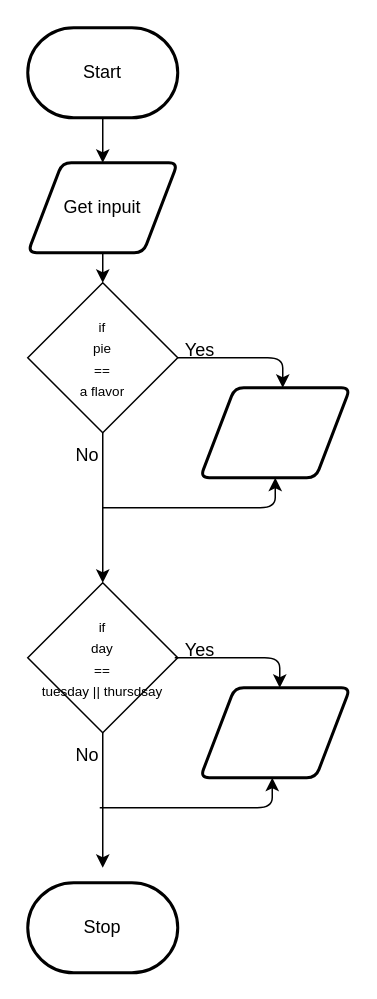
This 377x999 diagram has some shape labels left out. Each missing label, with the centre of its shape:
You are eligible for a student priseing: pixel 274 432
You must pay regular priseing: pixel 274 732
